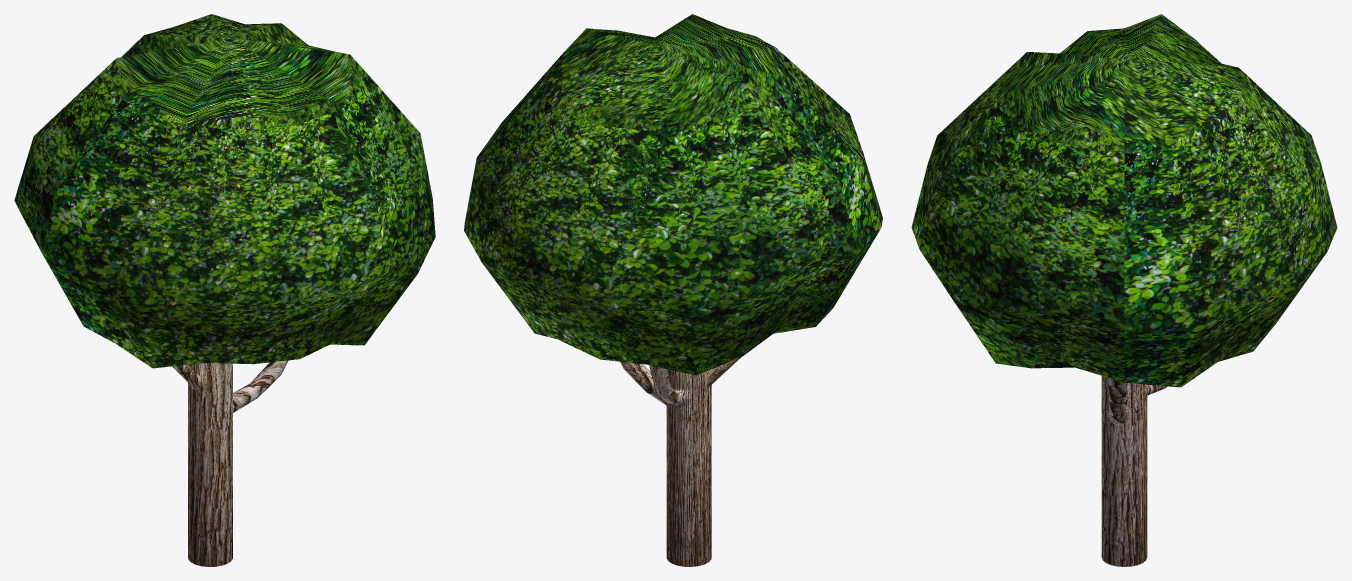
Rendered from дерево_1.fbx.
The picture shows the model from 3 angles, left to right: view 1: azimuth 30°, elevation 25°; view 2: azimuth 150°, elevation 25°; view 3: azimuth 270°, elevation 25°; orthographic projection.
Visible parts, largest first — view 1: pSphere1, pCylinder1; view 2: pSphere1, pCylinder1; view 3: pSphere1, pCylinder1.
Part boxes in pixels (x1,y1,x2,y2): pSphere1: (14,14,435,368); pCylinder1: (172,360,288,566); pSphere1: (464,14,882,375); pCylinder1: (620,357,741,566); pSphere1: (911,14,1337,387); pCylinder1: (1101,376,1167,566).
Bounding box in the file's own units: 18.67 × 24.73 × 18.7.
